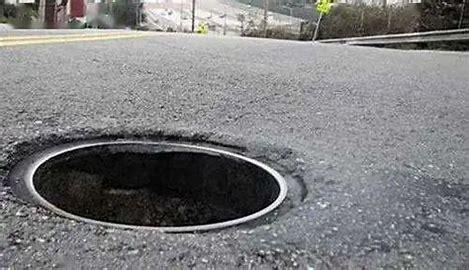wellcover: (0, 109, 324, 246)
